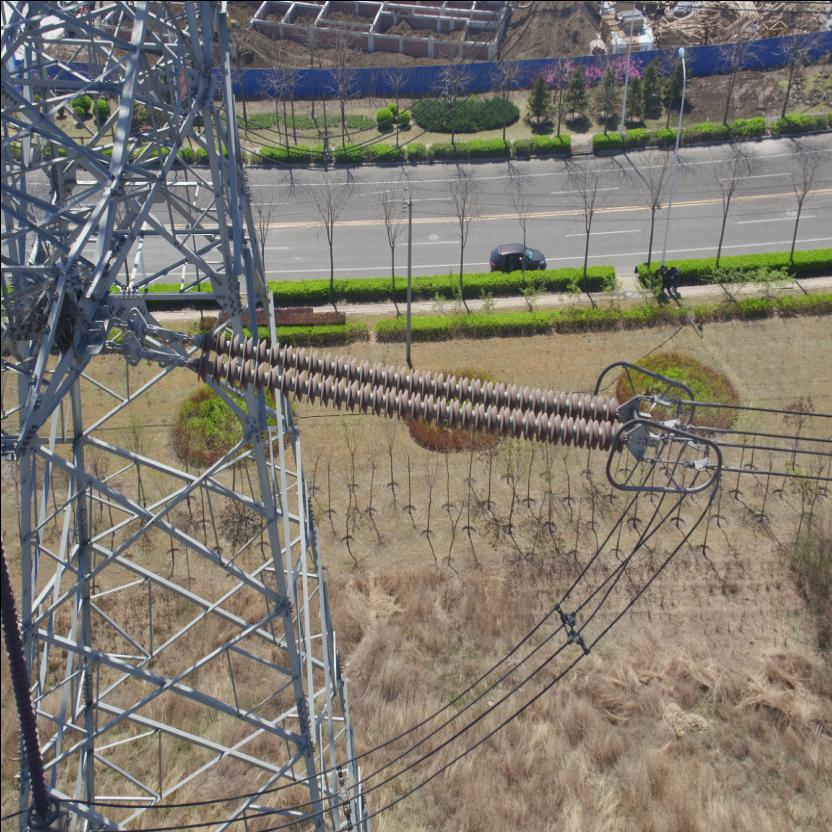insulator: (168, 320, 634, 456)
